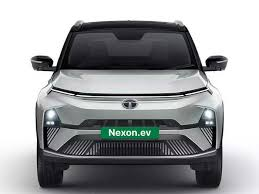Tata Nexon: (26, 12, 230, 191)
